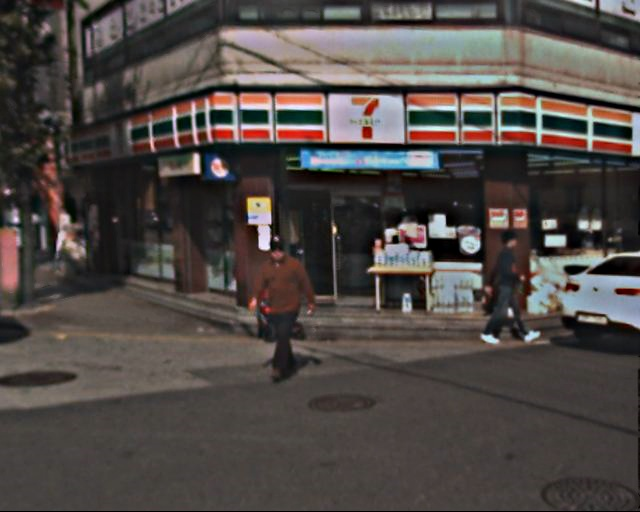person: (251, 233, 320, 384), (486, 231, 539, 349)
